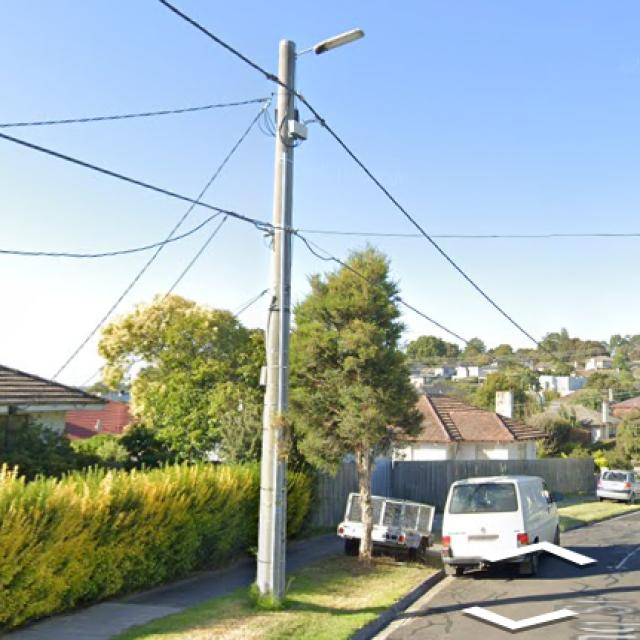concrete-pole: (252, 39, 297, 604)
streetlight: (296, 25, 367, 56)
